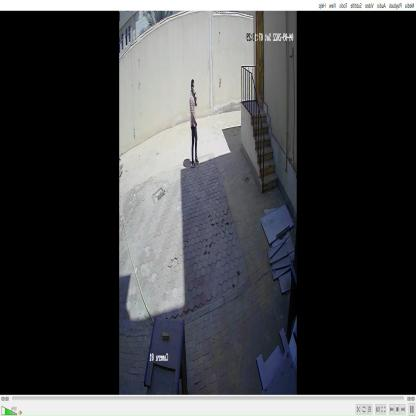handgun: (188, 80, 198, 110)
